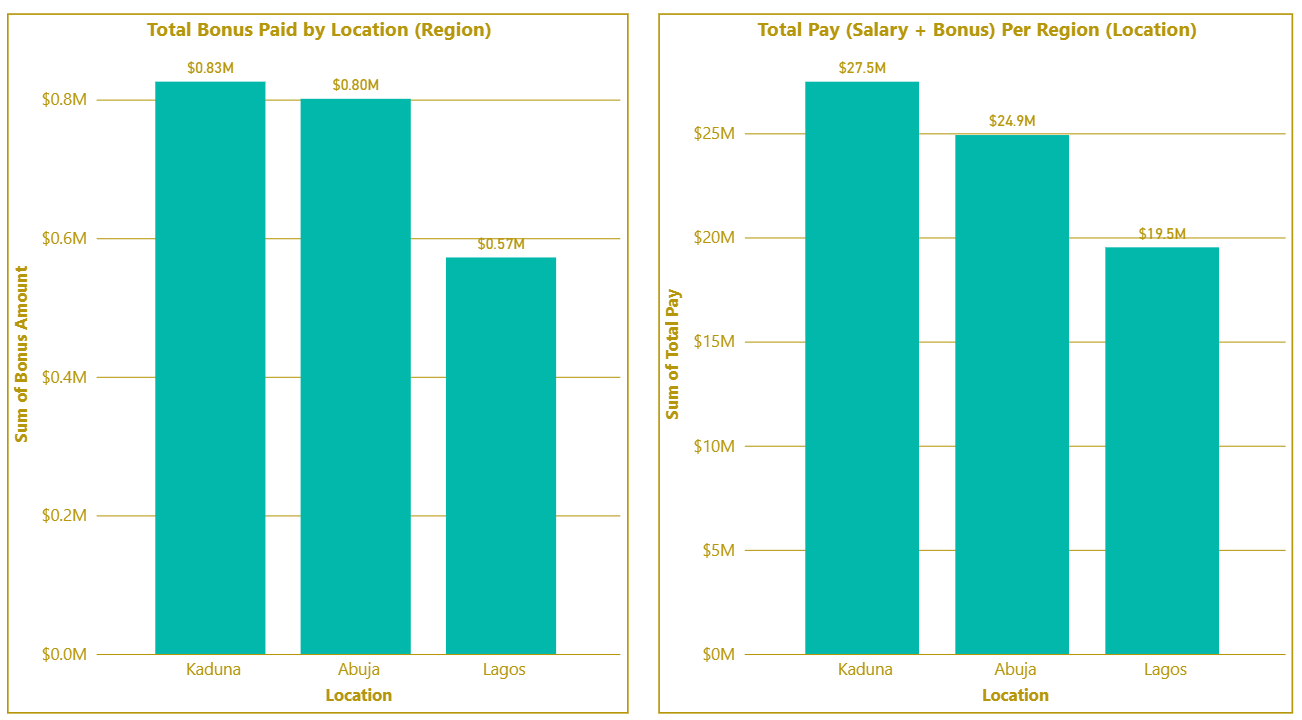

Layout of this report page (visuals, bound fields, positions):
{"tool":"powerbi","page":{"name":"Total Bonus and Total Salary Paid Per Region","canvas":[1280,720],"ordinal":10},"visuals":[{"type":"clusteredColumnChart","title":"Total Bonus Paid by Location (Region)","fields":{"Category":["Palmoria Group emp-data.Location"],"Y":["Sum(Palmoria Group emp-data.Bonus Amount)"]},"box":[19.3,30.2,599.6,675.6],"z":0},{"type":"clusteredColumnChart","title":"Total Pay (Salary + Bonus) Per Region (Location)","fields":{"Category":["Palmoria Group emp-data.Location"],"Y":["Sum(Palmoria Group emp-data.Total Pay)"]},"box":[647.9,30.2,612.9,675.6],"z":1}]}

Visuals, with their boxes in screenshot pixels (x1, y1, x2, y2), scaled from the page's 1280x720 canvas onto the 1302x720 screenshot:
"Total Bonus Paid by Location (Region)" clusteredColumnChart: box(20, 30, 630, 706)
"Total Pay (Salary + Bonus) Per Region (Location)" clusteredColumnChart: box(659, 30, 1282, 706)
